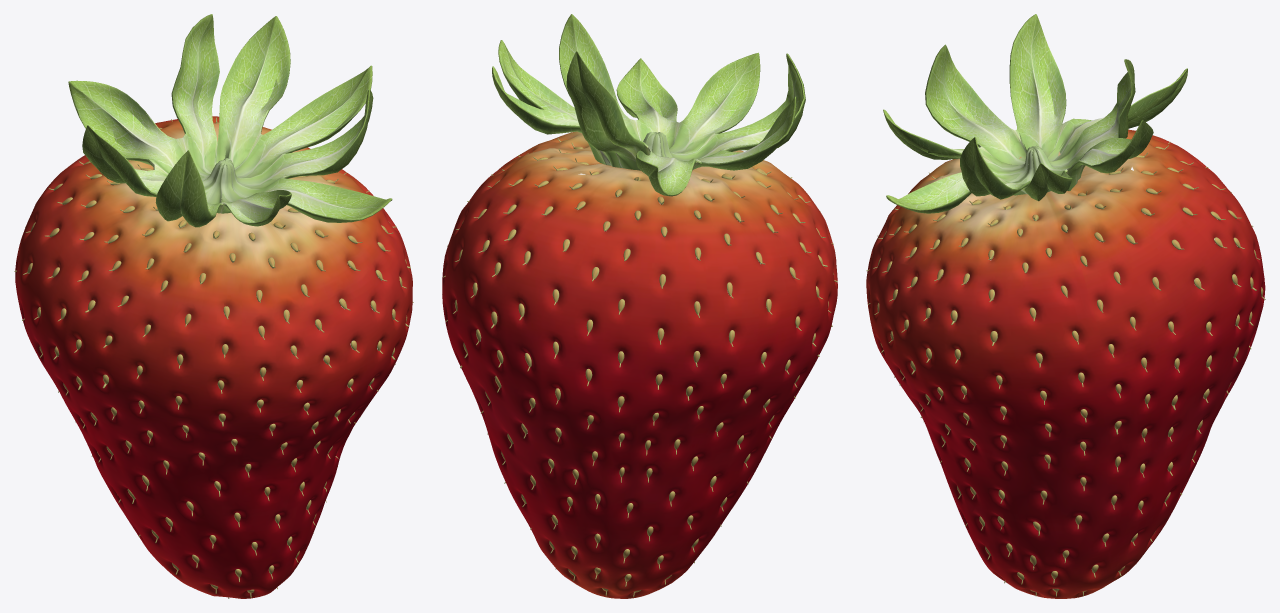
Rendered from strawberry-opt.glb.
3 views of the same model, side by side, from view 1: azimuth 30°, elevation 25°; view 2: azimuth 150°, elevation 25°; view 3: azimuth 270°, elevation 25° (orthographic). The views are drawn at different scales.
Visible parts, largest first — view 1: Object_6; view 2: Object_6; view 3: Object_6.
Part boxes in pixels (<box>): Object_6: <box>14,14,413,598</box>; Object_6: <box>442,14,837,598</box>; Object_6: <box>866,14,1265,598</box>.
Size of the model in its own units: 0.5752 by 0.8977 by 0.6026.
1 material, 1 textured.
